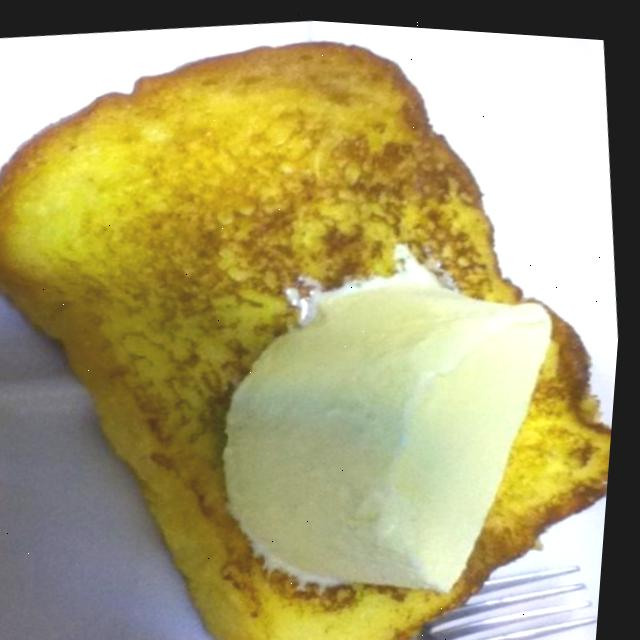米饭主食: (0, 316, 447, 640)
